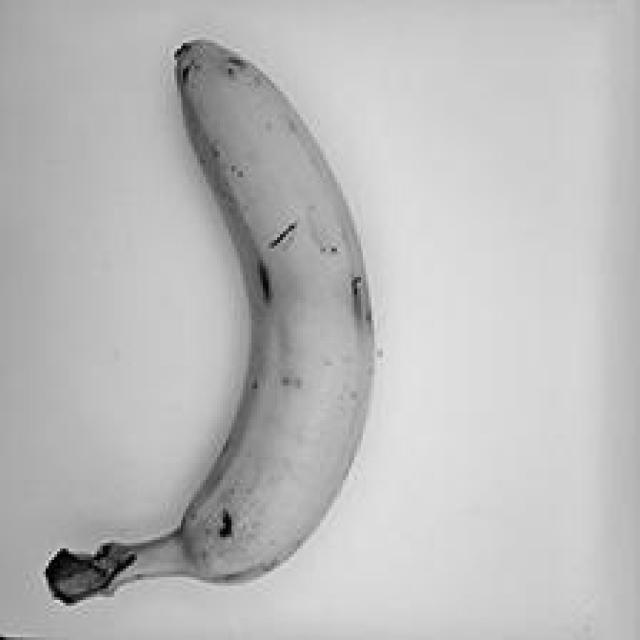Ripe: (0, 5, 411, 625)
